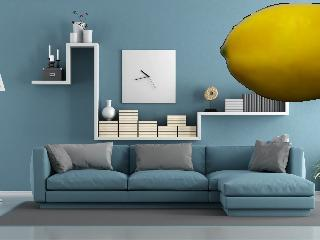lemon: (221, 2, 320, 103)
